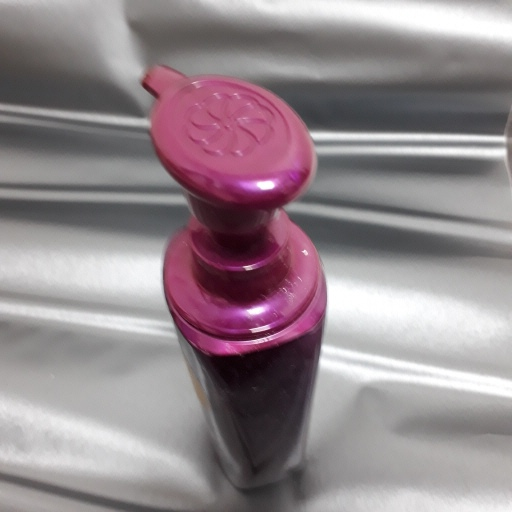Plastic_3: (139, 61, 329, 491)
